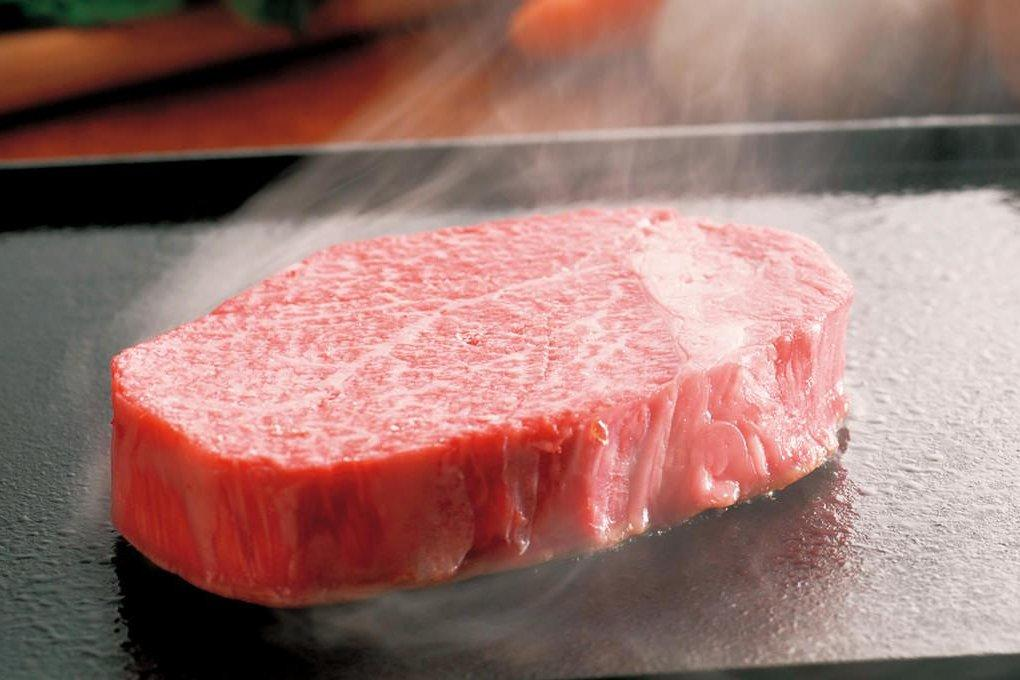beef: (259, 218, 1020, 646)
